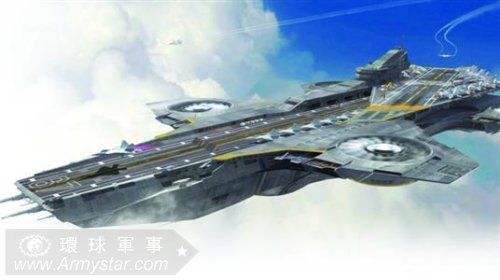warship: (8, 42, 499, 233)
